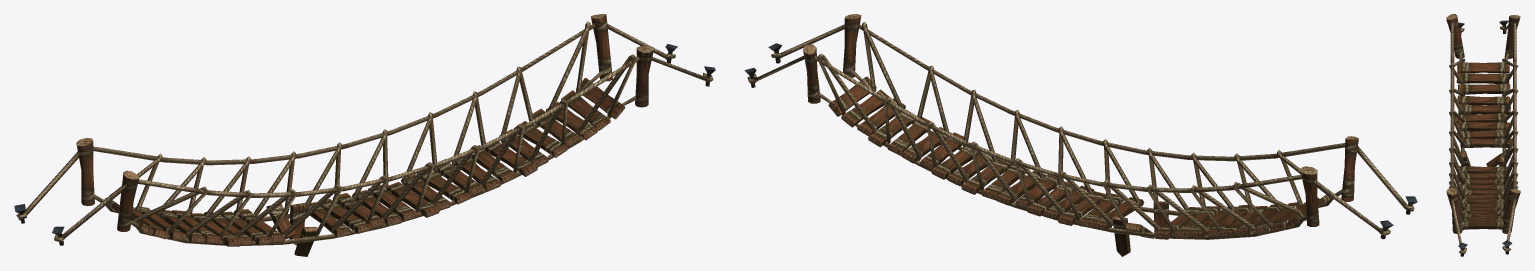
File: Bridge 1.fbx
3 renders of one model, left to right at view 1: azimuth 30°, elevation 25°; view 2: azimuth 150°, elevation 25°; view 3: azimuth 270°, elevation 25°, orthographic. The views are drawn at different scales.
Visible parts, largest first — view 1: rope_bridge_example_08_rope_bridge_0; view 2: rope_bridge_example_08_rope_bridge_0; view 3: rope_bridge_example_08_rope_bridge_0.
Boxes of the visible parts, x1=… form: rope_bridge_example_08_rope_bridge_0: x1=14, y1=14, x2=715, y2=256; rope_bridge_example_08_rope_bridge_0: x1=744, y1=14, x2=1417, y2=256; rope_bridge_example_08_rope_bridge_0: x1=1446, y1=14, x2=1520, y2=256.
Size of the model in its own units: 13089 by 2741 by 1807.
